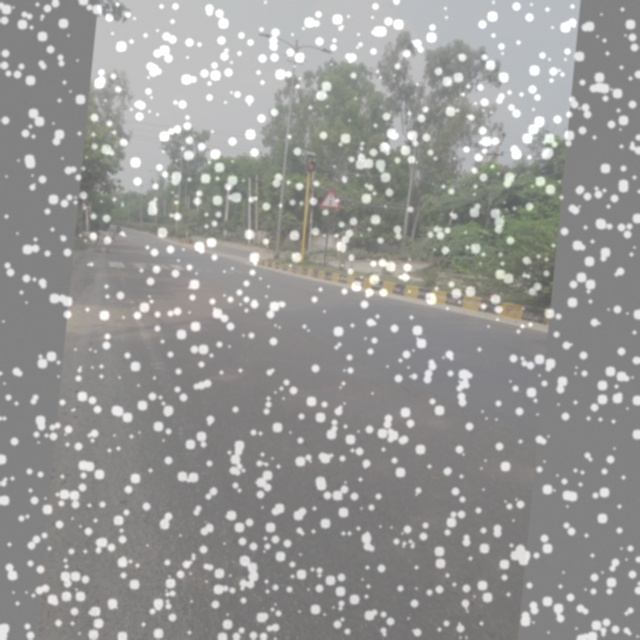Gap_in_Median: (317, 183, 344, 213)
